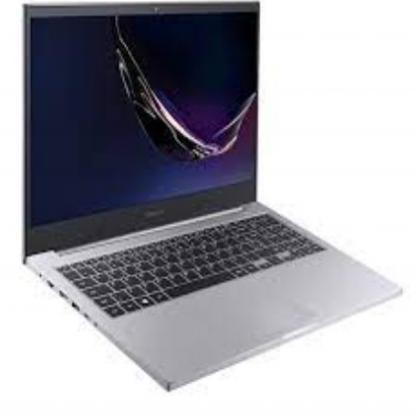NOTEBOOK: (5, 1, 416, 412)
